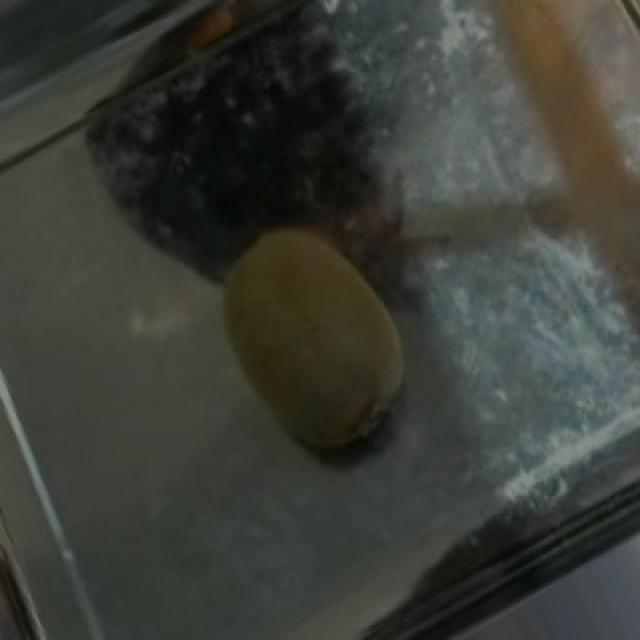Fruit: (182, 201, 446, 494)
